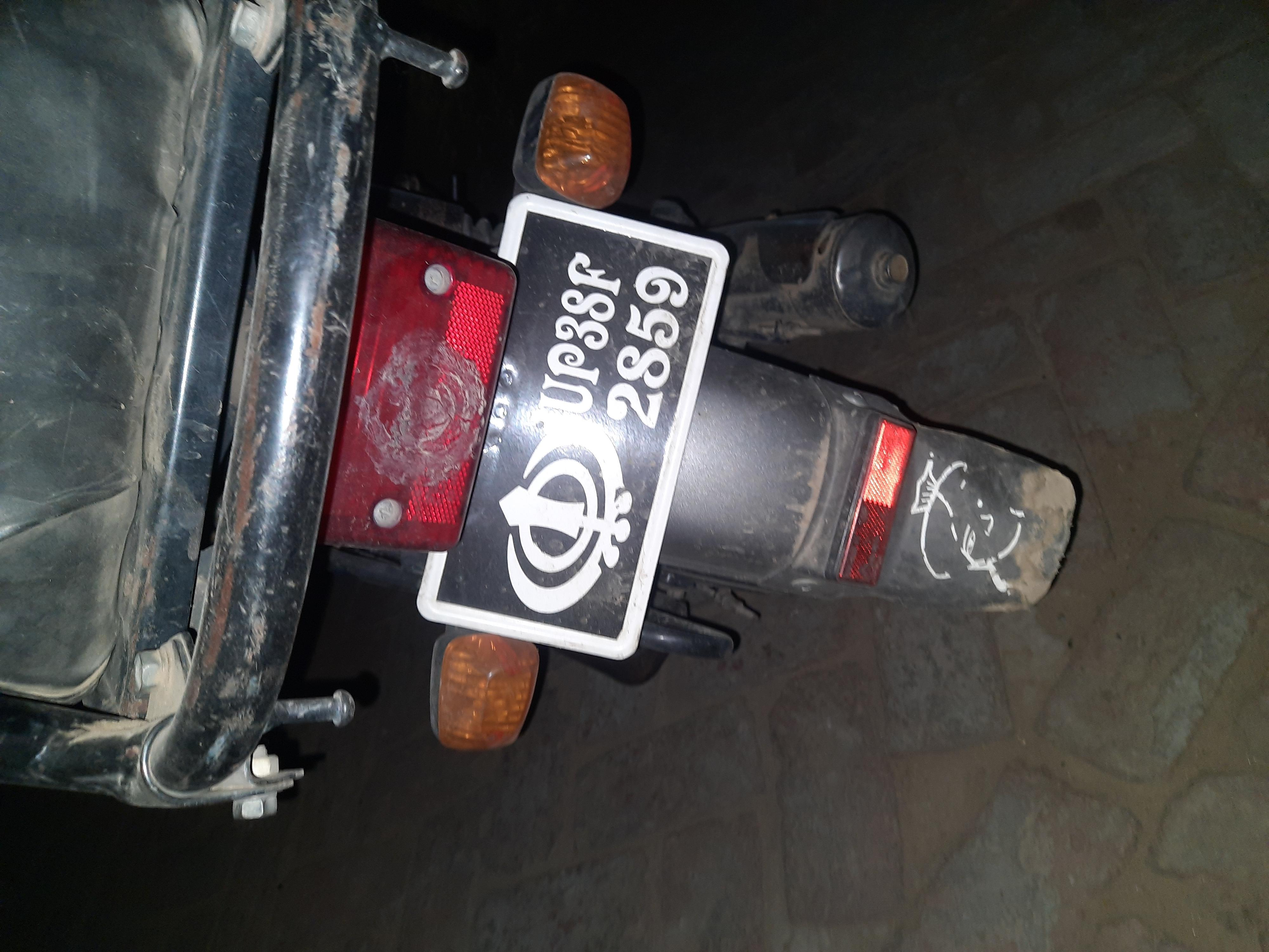number_platerotation: (386, 311, 1012, 549)
